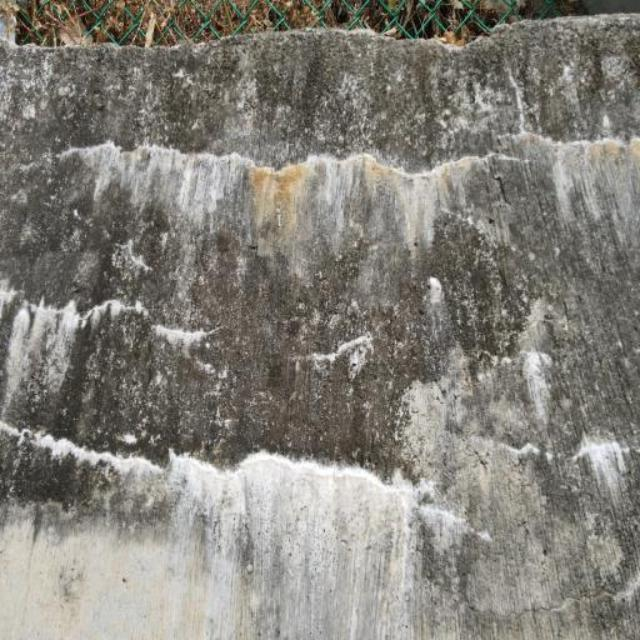D01: (2, 450, 489, 639), (578, 438, 628, 489)
